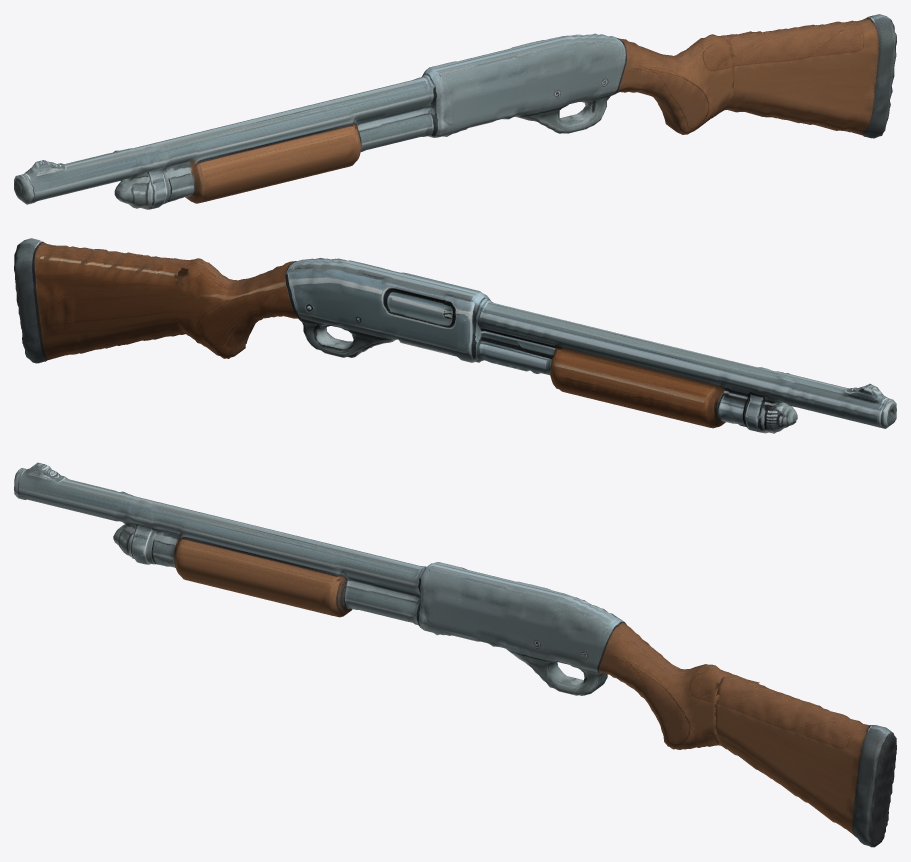
The model's file is Meshy_AI_Lever_Action_Rifle_0316034107_texture.fbx.
3 views of the same model, one above another, from view 1: azimuth 30°, elevation 25°; view 2: azimuth 150°, elevation 25°; view 3: azimuth 330°, elevation 25° (orthographic).
Parts seen in each view (by area): view 1: Mesh_0; view 2: Mesh_0; view 3: Mesh_0.
Part boxes in pixels (<box>): Mesh_0: <box>14,14,896,209</box>; Mesh_0: <box>14,238,896,433</box>; Mesh_0: <box>14,462,896,847</box>.
Size of the model in its own units: 191 by 37.18 by 10.57.
Materials: 1 (1 with a texture image).
